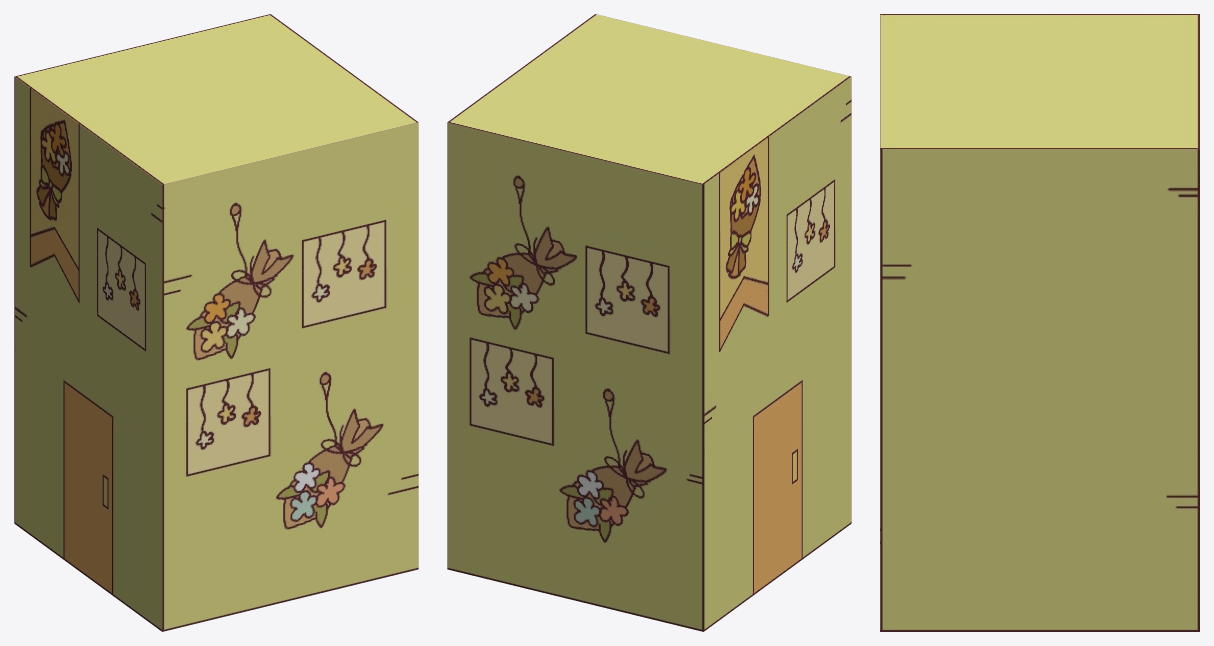
Rendered from dream_building15.fbx.
3 views of the same model, side by side, from view 1: azimuth 30°, elevation 25°; view 2: azimuth 150°, elevation 25°; view 3: azimuth 270°, elevation 25° (orthographic). The views are drawn at different scales.
Visible parts, largest first — view 1: Box001; view 2: Box001; view 3: Box001.
Part boxes in pixels (x1,y1,x2,y2): Box001: [14, 14, 418, 631]; Box001: [447, 14, 851, 631]; Box001: [880, 14, 1199, 631].
Size of the model in its own units: 360 by 600 by 360.
Materials: 1 (1 with a texture image).
